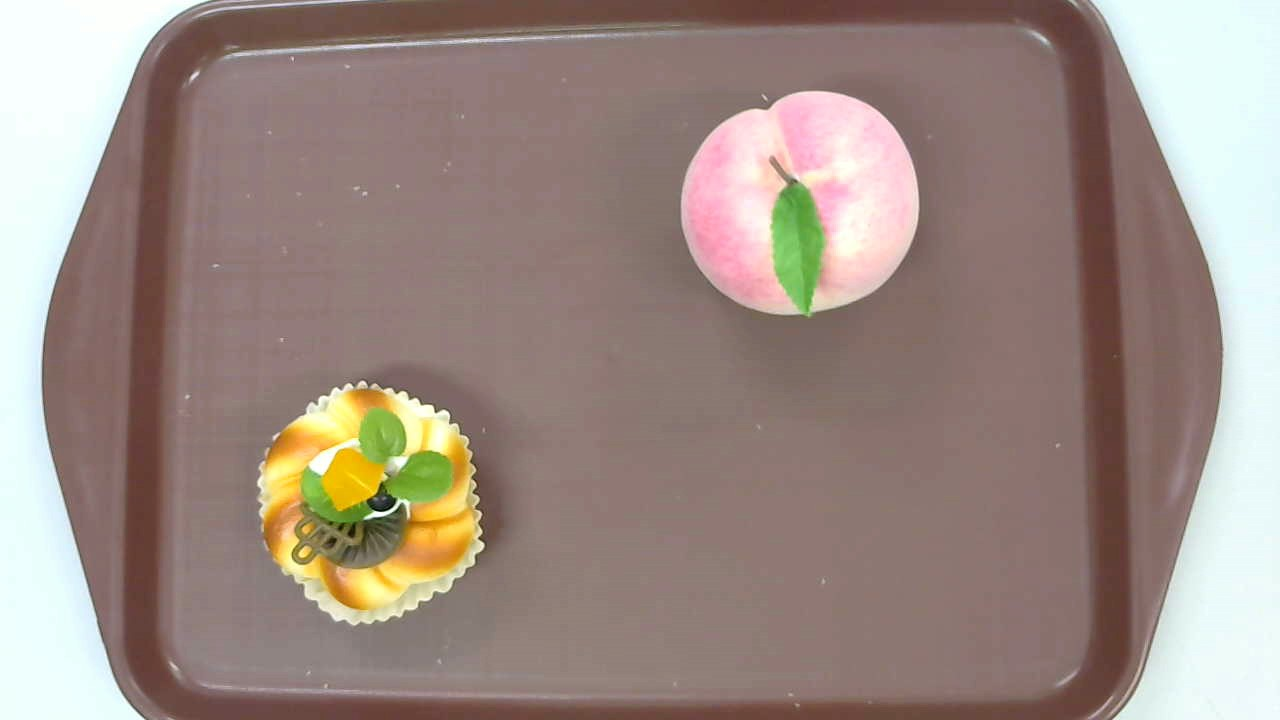fruit tart: (256, 380, 485, 625)
peach: (679, 91, 919, 320)
